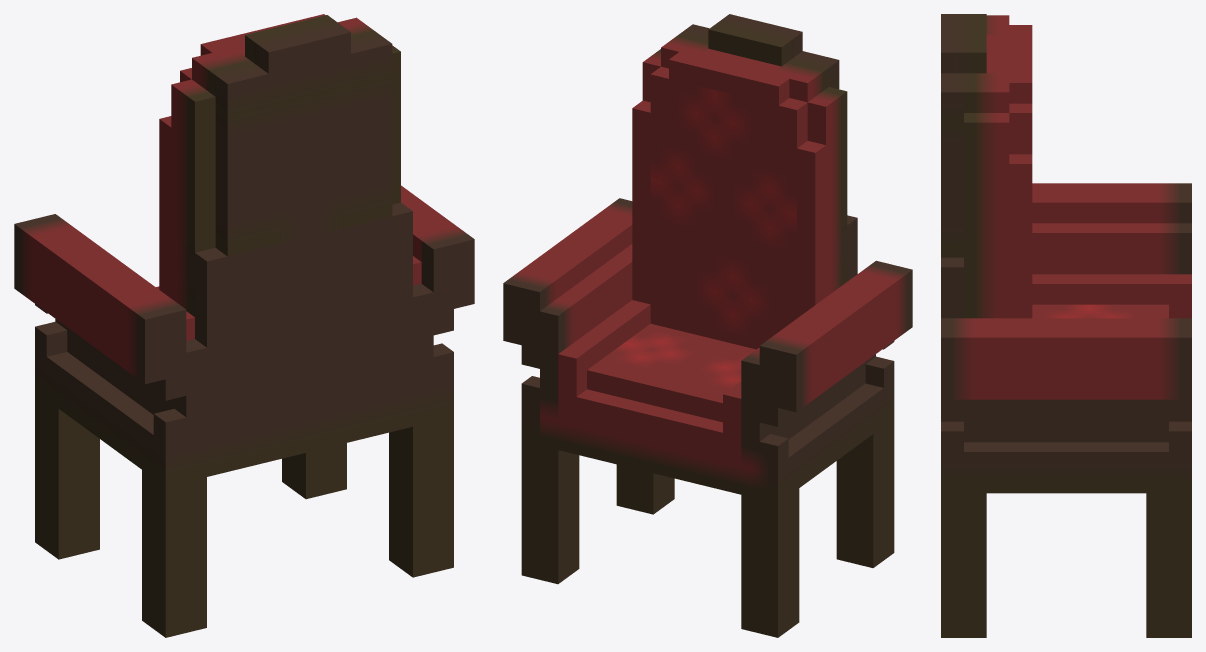
Rendered from Captain_Chair_00.fbx.
The picture shows the model from 3 angles, left to right: view 1: azimuth 30°, elevation 25°; view 2: azimuth 150°, elevation 25°; view 3: azimuth 270°, elevation 25°; orthographic projection. The views are drawn at different scales.
Visible parts, largest first — view 1: Captain_Chair_00; view 2: Captain_Chair_00; view 3: Captain_Chair_00.
Part boxes in pixels (bbox=[...]): Captain_Chair_00: bbox=[14, 14, 474, 637]; Captain_Chair_00: bbox=[503, 14, 912, 637]; Captain_Chair_00: bbox=[941, 14, 1191, 637].
Size of the model in its own units: 80 by 130 by 55.
